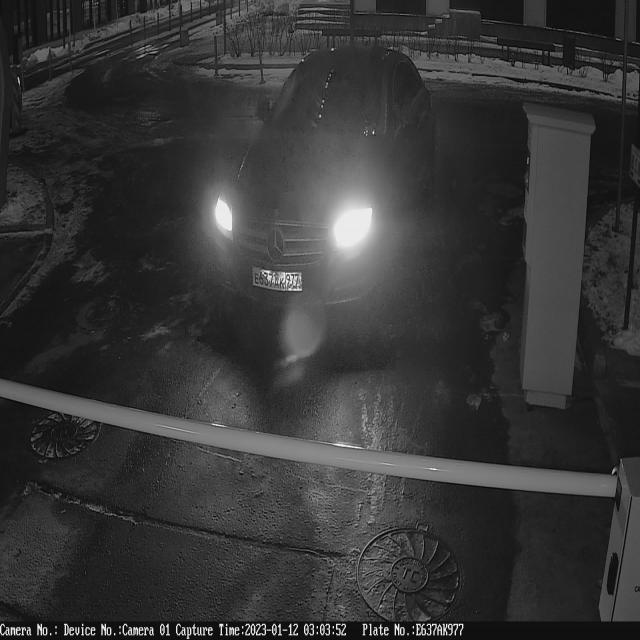car-plate-numbers: (248, 262, 307, 304)
